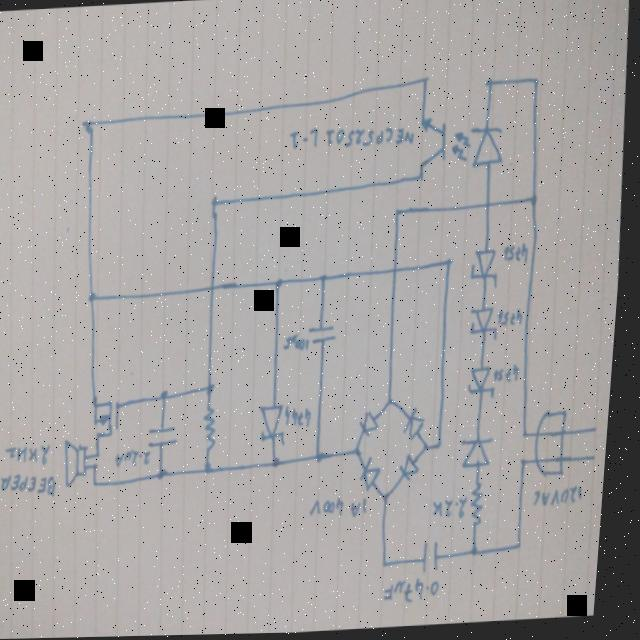capacitor: (423, 540, 455, 577), (152, 421, 186, 451), (312, 322, 343, 349)
crossover: (485, 203, 496, 213), (212, 284, 222, 295), (394, 267, 404, 277)
diode: (472, 249, 505, 293), (263, 405, 294, 449), (465, 437, 503, 472), (472, 306, 505, 345), (472, 367, 503, 404), (365, 458, 390, 495), (409, 409, 434, 444), (405, 454, 429, 483), (364, 411, 388, 440)
junction: (79, 114, 101, 137), (160, 467, 178, 483), (210, 194, 224, 211), (90, 289, 103, 306), (209, 383, 223, 397), (277, 278, 290, 292), (209, 463, 222, 477), (531, 196, 543, 211), (485, 78, 497, 92), (321, 452, 333, 466), (277, 457, 289, 471), (164, 390, 176, 404), (476, 548, 488, 561), (447, 258, 458, 272), (421, 75, 432, 89), (388, 493, 400, 505), (322, 274, 333, 286), (392, 399, 401, 411), (396, 208, 404, 221), (359, 448, 369, 458), (533, 78, 542, 89), (389, 561, 397, 573), (526, 461, 535, 471), (420, 175, 428, 186), (428, 445, 437, 454), (522, 544, 530, 554), (442, 443, 450, 452), (528, 434, 535, 444), (99, 481, 107, 489), (99, 464, 106, 472), (102, 452, 108, 460)
resistor: (206, 406, 227, 455), (475, 481, 494, 532)
terminal: (597, 427, 608, 438), (597, 455, 605, 466)
text: (289, 123, 419, 155), (6, 470, 67, 500), (390, 578, 452, 607), (538, 486, 593, 511), (10, 442, 60, 469), (438, 498, 477, 524), (316, 496, 354, 520), (120, 448, 159, 470), (289, 405, 320, 431), (505, 243, 534, 269), (498, 365, 527, 387), (287, 333, 316, 354), (501, 309, 529, 330), (356, 499, 378, 521)
transistor: (92, 395, 129, 441)
